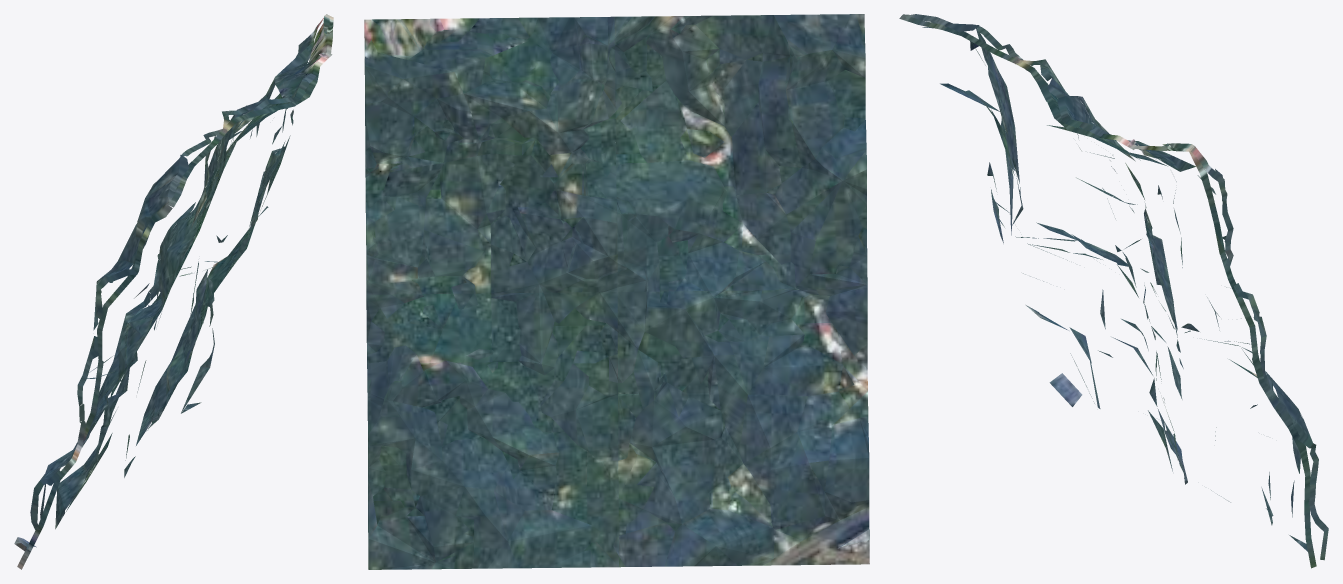
3 views of the same model, side by side, from view 1: azimuth 30°, elevation 25°; view 2: azimuth 150°, elevation 25°; view 3: azimuth 270°, elevation 25° (orthographic). The views are drawn at different scales.
Size of the model in its own units: 1128 by 1204 by 1024.
Materials: 2 (2 with a texture image).
